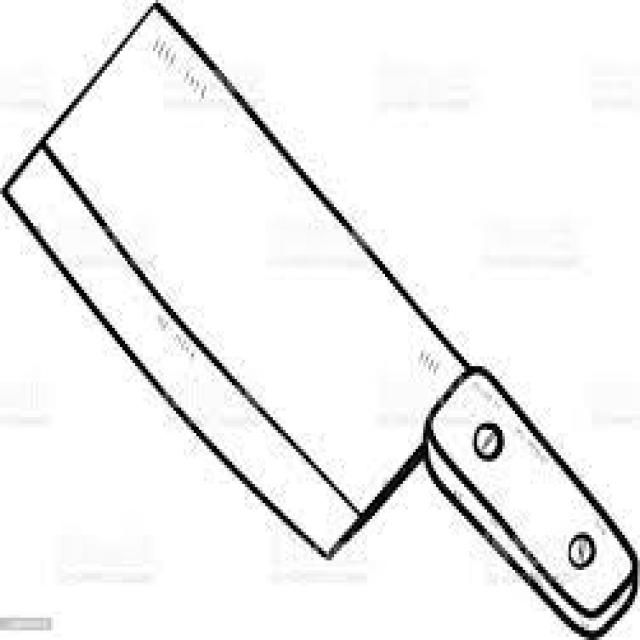Knife: (2, 6, 635, 640)
